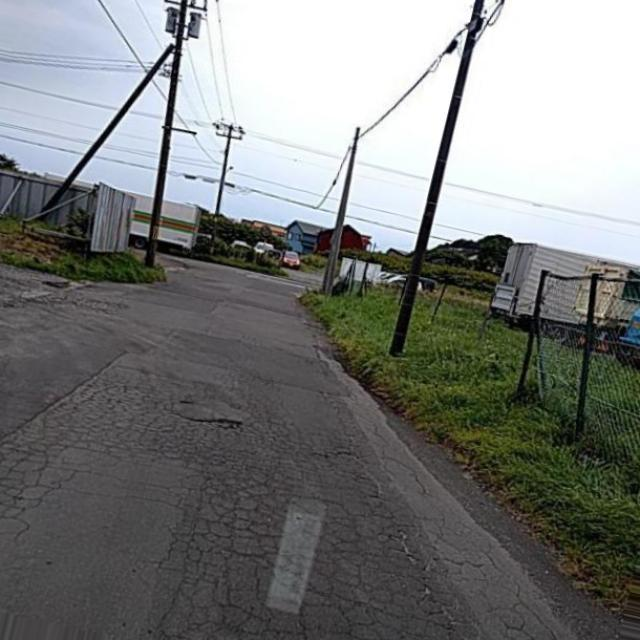Retak Buaya: (2, 375, 449, 639)
